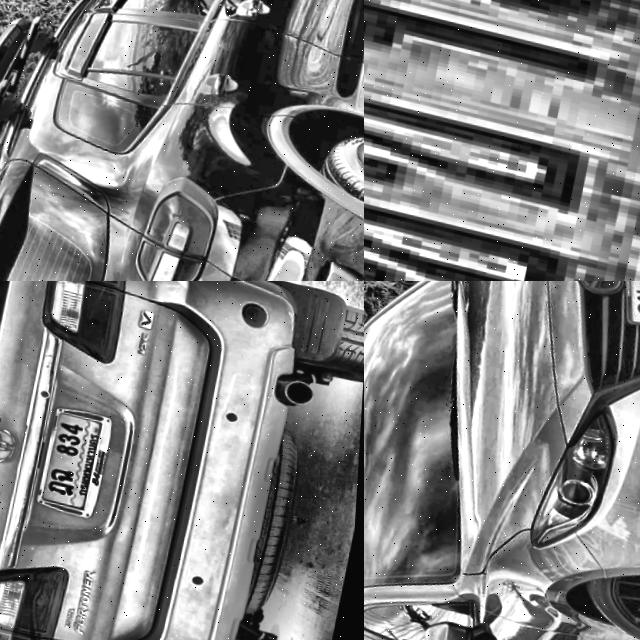license-plate: (364, 0, 640, 281), (29, 390, 123, 515)
